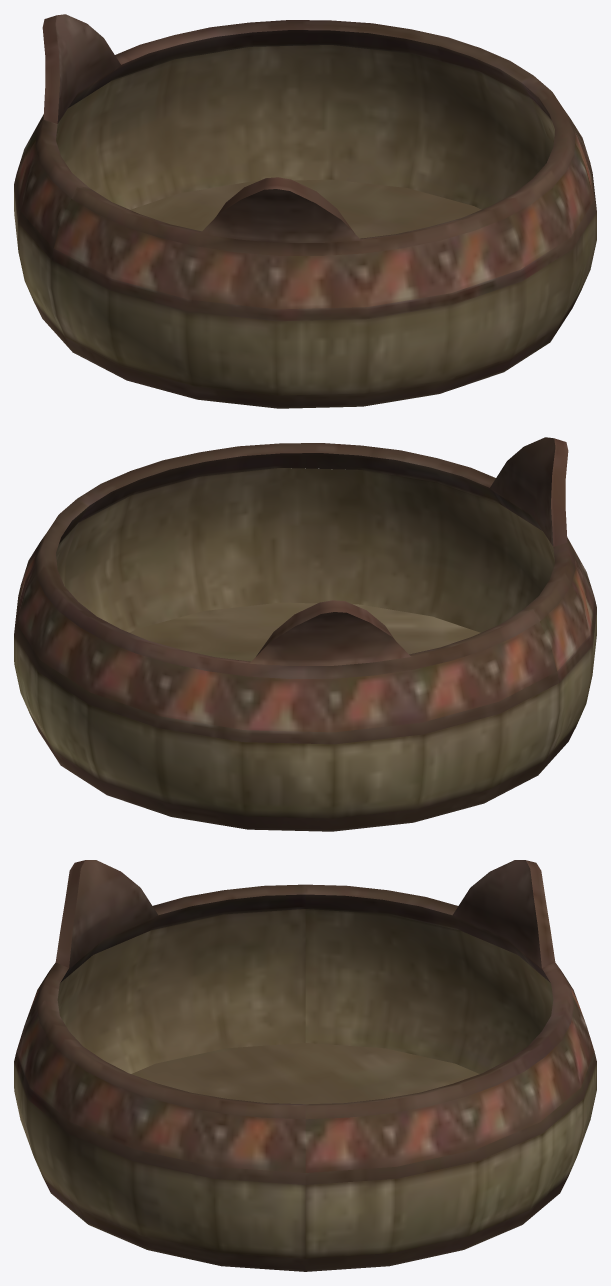
The model's file is SM_PalManger_90d92c.glb.
The picture shows the model from 3 angles, top to bottom: view 1: azimuth 30°, elevation 25°; view 2: azimuth 150°, elevation 25°; view 3: azimuth 270°, elevation 25°; orthographic projection.
Size of the model in its own units: 1.3 by 0.5733 by 1.29.
Materials: 1 (1 with a texture image).
